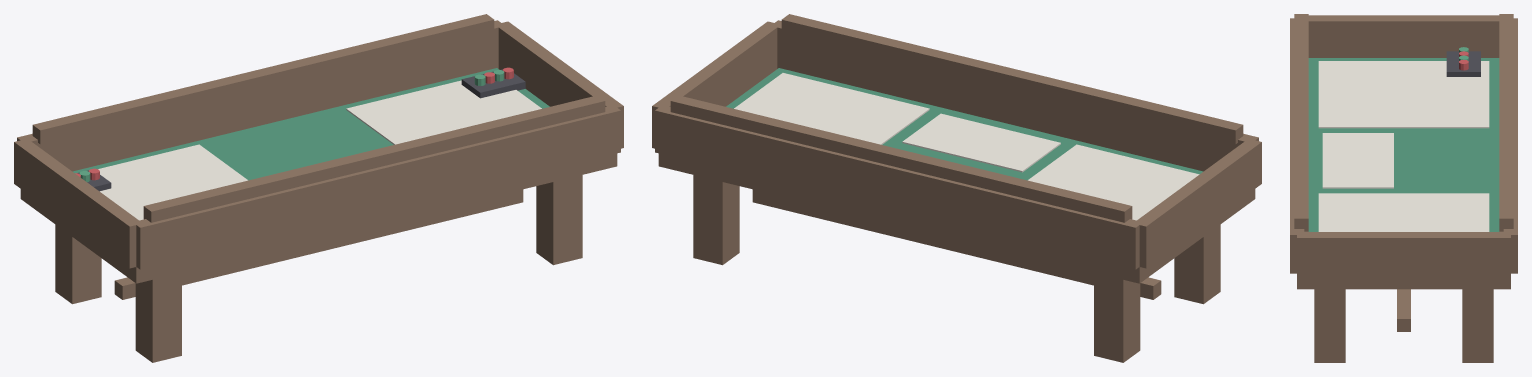
File: casino-floor-and-back-rooms-craps-table-ec264527__27002.glb
3 renders of one model, left to right at view 1: azimuth 30°, elevation 25°; view 2: azimuth 150°, elevation 25°; view 3: azimuth 270°, elevation 25°, orthographic. The views are drawn at different scales.
Visible parts, largest first — view 1: craps-table; view 2: craps-table; view 3: craps-table.
Boxes of the visible parts, left/top/right/bottom form: craps-table: left=14, top=14, right=623, bottom=362; craps-table: left=652, top=14, right=1261, bottom=362; craps-table: left=1290, top=14, right=1517, bottom=362.
Bounding box in the file's own units: 3.7 × 1.16 × 1.6.
